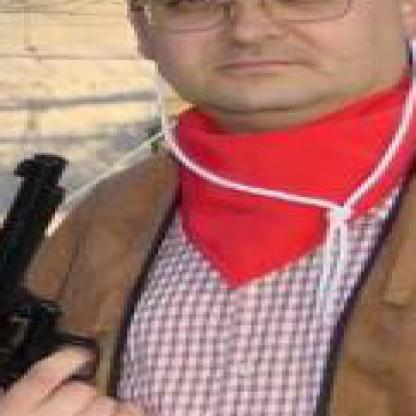gun: (0, 139, 148, 414)
